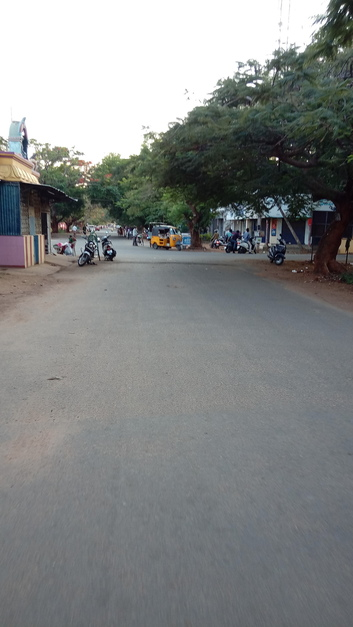bump: (103, 258, 244, 270)
